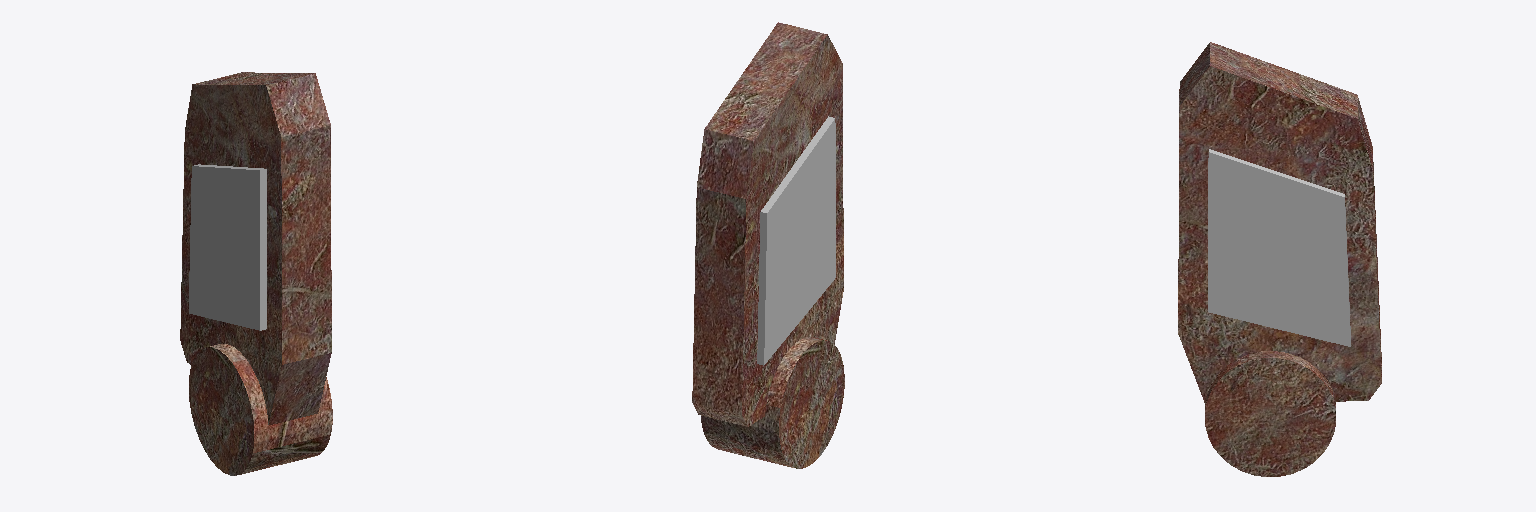
3 renders of one model, left to right at view 1: azimuth 30°, elevation 25°; view 2: azimuth 150°, elevation 25°; view 3: azimuth 270°, elevation 25°, orthographic.
Parts seen in each view (by area): view 1: Brazo1; view 2: Brazo1; view 3: Brazo1.
Boxes of the visible parts, box(x1,y1,x2,y2) form: Brazo1: box(180, 72, 332, 475); Brazo1: box(692, 22, 844, 468); Brazo1: box(1178, 42, 1381, 476).
Bounding box in the file's own units: 1.05 × 5.2 × 2.37.
2 materials, 1 textured.